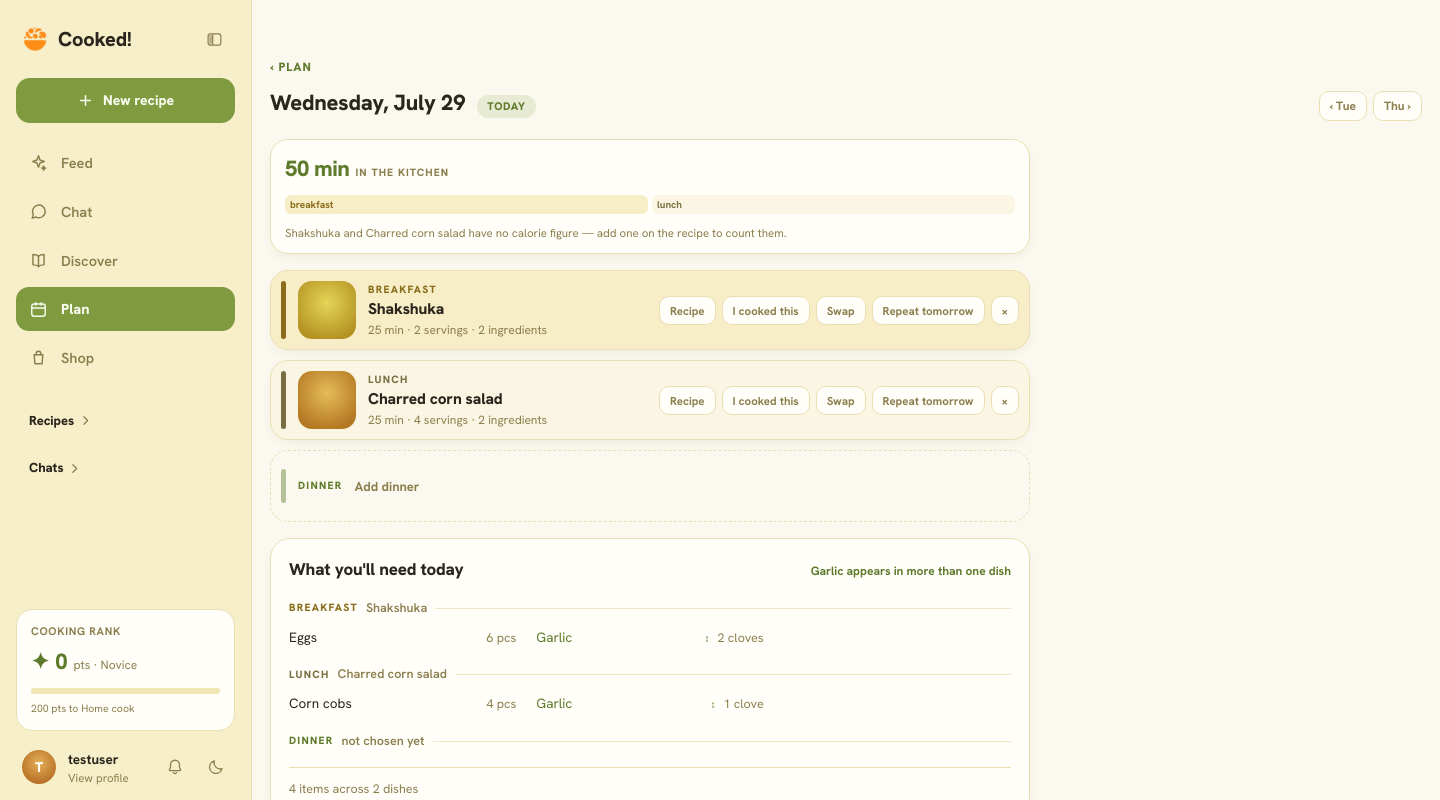
the day page › warns when the placed recipe has no ingredient list
The image size is (1440, 800).
Click the button with aria-label "add a recipe for dinner": (320, 485) [270, 450, 1030, 522]
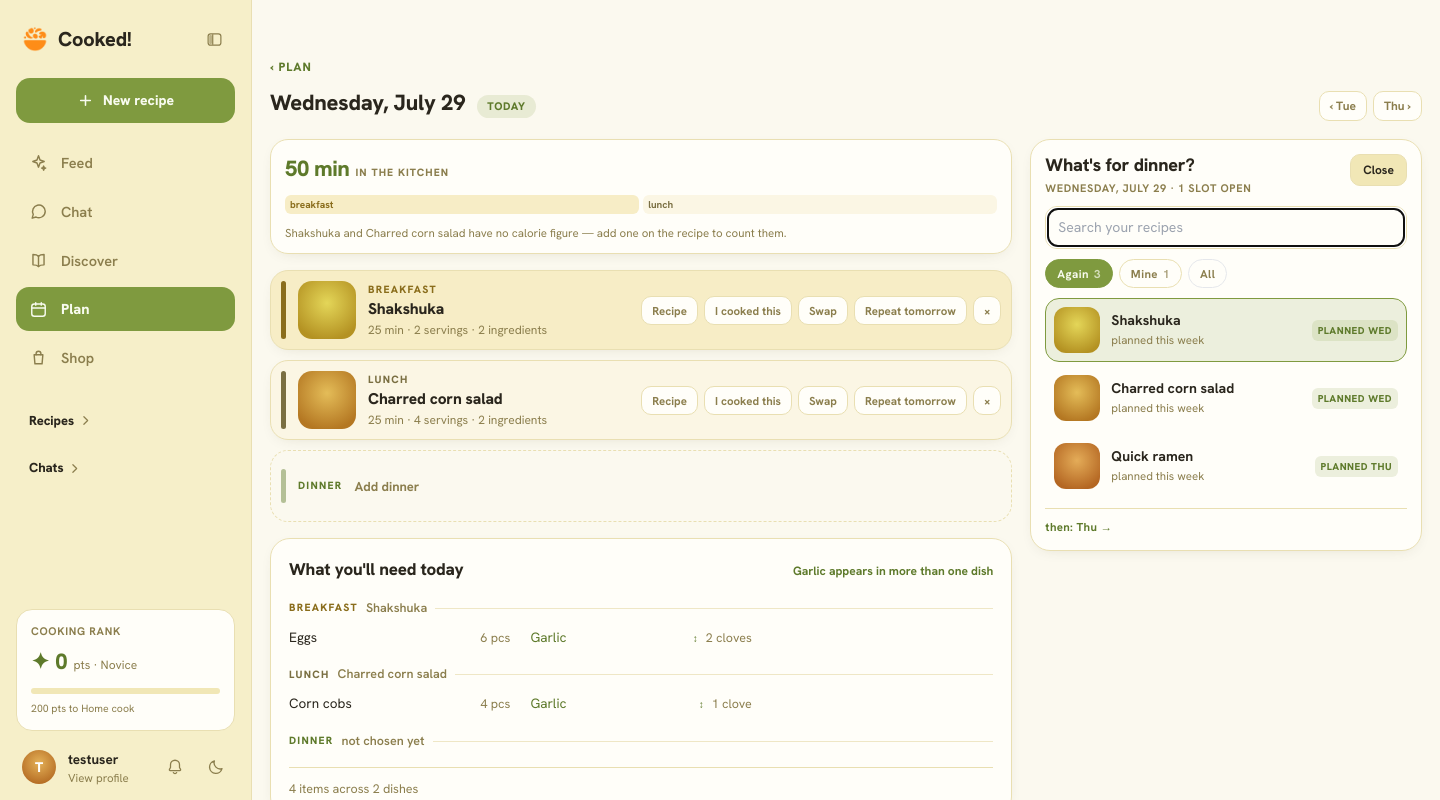
Click the tab "Mine1": (1150, 274) [1119, 259, 1182, 288]
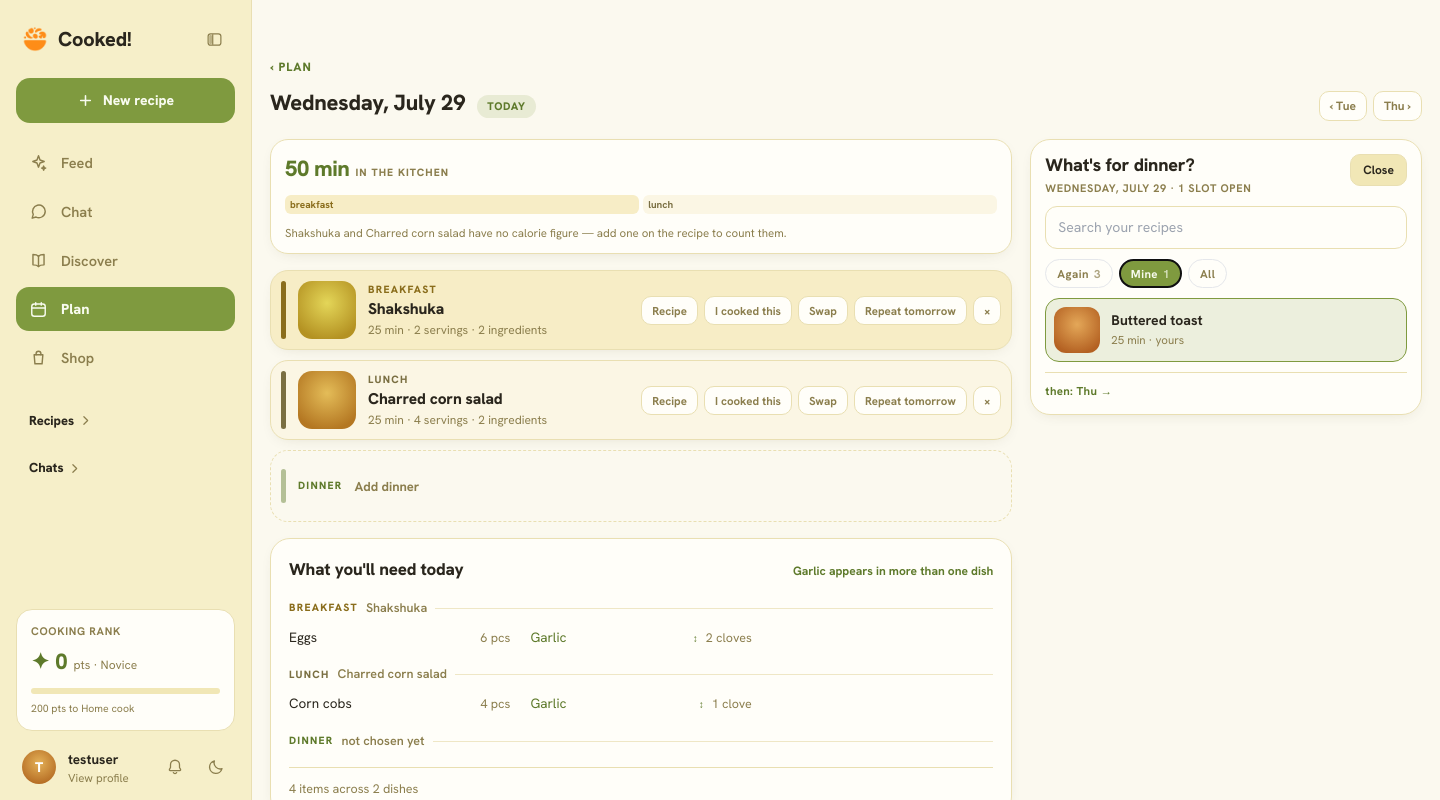
Click the button "Buttered toast 25 min · yours": (1077, 330) [1045, 298, 1407, 362]
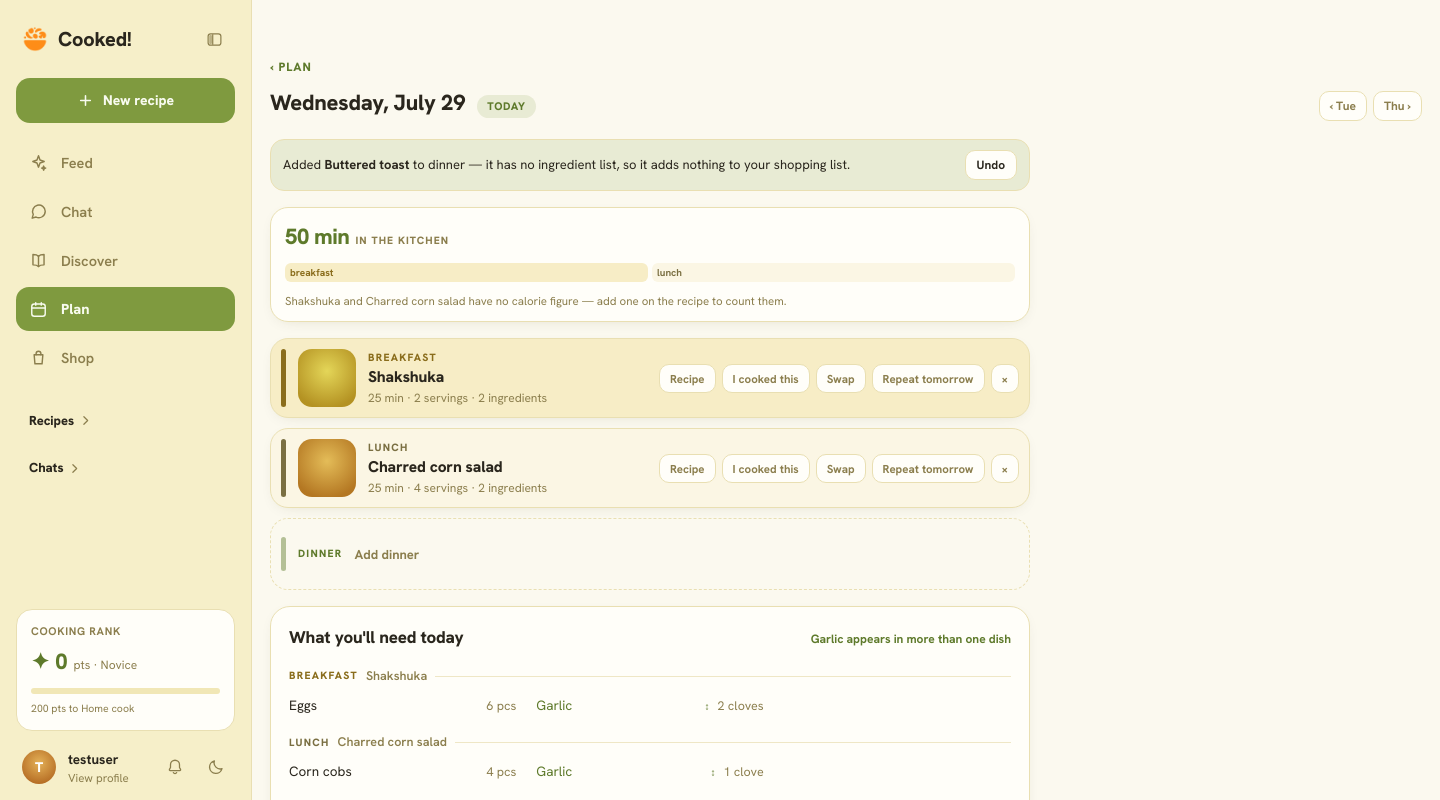
Expected: the text "no ingredient list" is shown, [465, 156, 850, 173]
